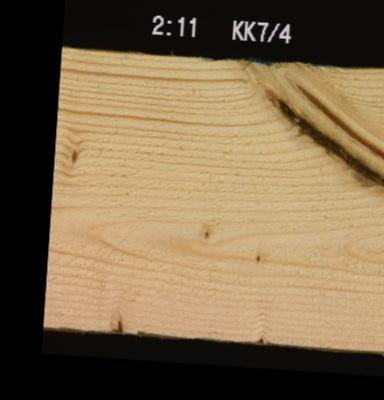edge_knot: (109, 308, 132, 334), (250, 332, 266, 343)
small_knot: (67, 142, 78, 166), (199, 225, 211, 242), (251, 251, 263, 264)
